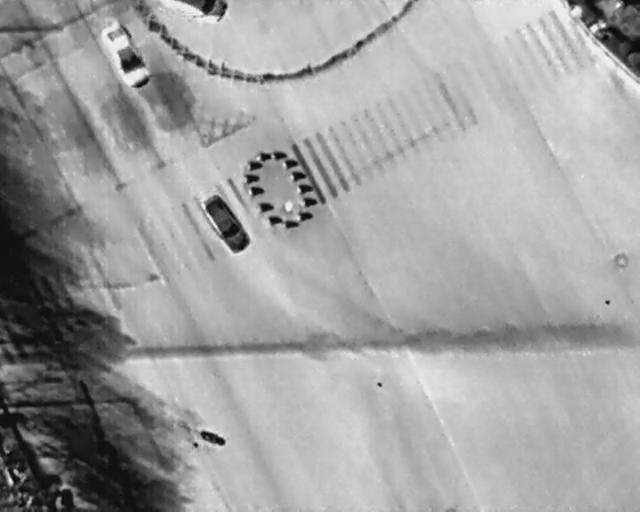Car: (95, 18, 154, 95), (194, 186, 254, 257)
